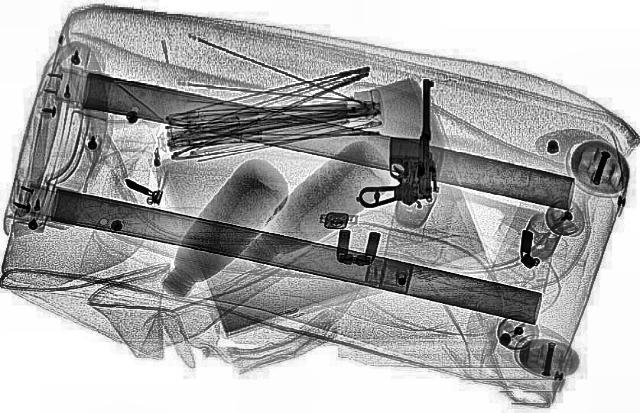Gun: (352, 78, 436, 209)
